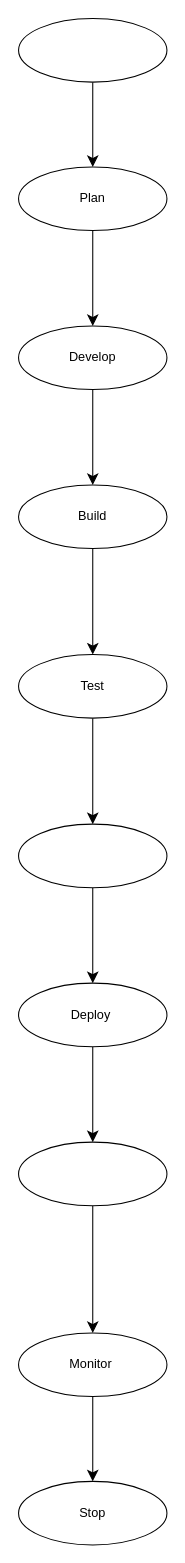
Some shapes in this 185 by 1563 pixel diagram are drawn without their labels. The box of each missing label's shape, as (x1, y1, x2, y2) in pixels:
Operate: (17, 1141, 167, 1206)
Release: (17, 823, 167, 888)
Start: (17, 17, 167, 82)
